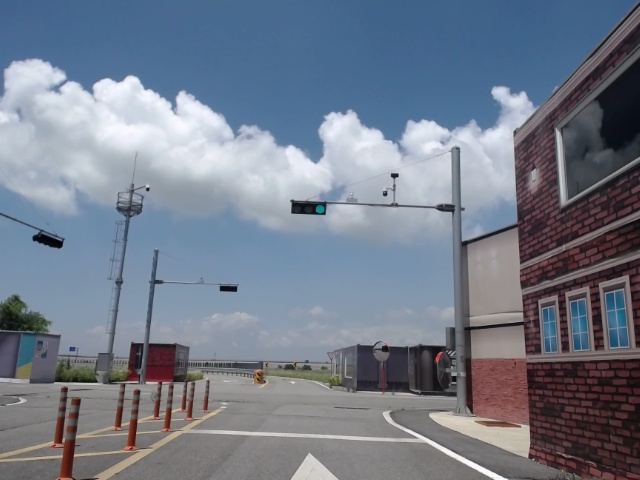green_3: (291, 204, 326, 213)
